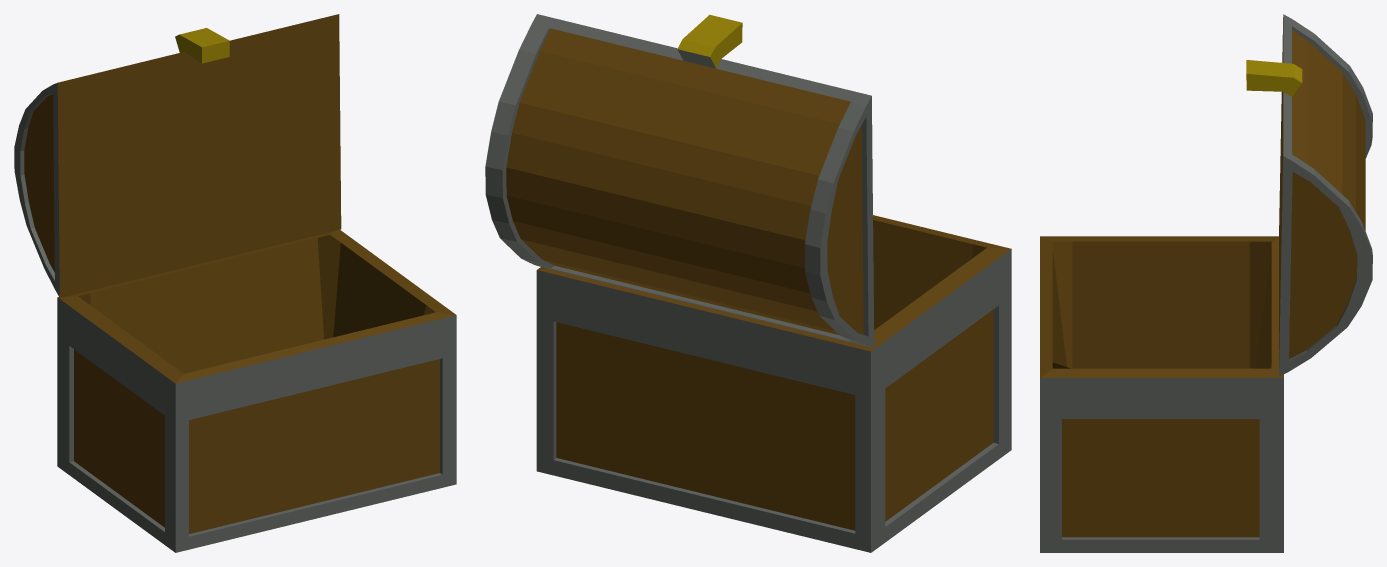
Rendered from OpenChest.glb.
3 renders of one model, left to right at view 1: azimuth 30°, elevation 25°; view 2: azimuth 150°, elevation 25°; view 3: azimuth 270°, elevation 25°, orthographic. The views are drawn at different scales.
Visible parts, largest first — view 1: ChestBottom; view 2: ChestBottom; view 3: ChestBottom.
Boxes of the visible parts, box(x1,y1,x2,y2) form: ChestBottom: box(14, 14, 456, 552); ChestBottom: box(485, 14, 1011, 552); ChestBottom: box(1040, 14, 1372, 552).
Size of the model in its own units: 0.686 by 0.9352 by 0.6799.
